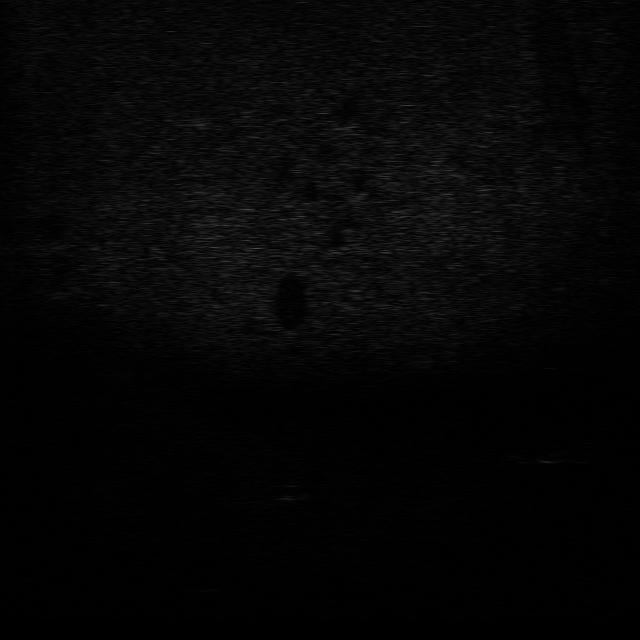ball: (268, 480, 312, 503)
human body: (493, 435, 598, 468)
